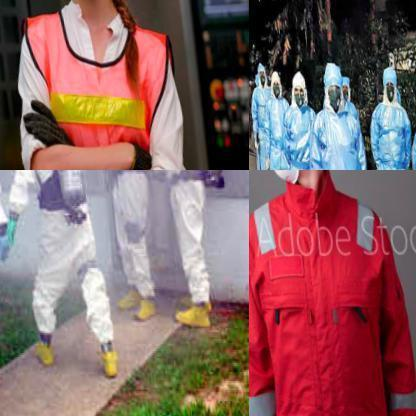vest: (249, 176, 415, 415), (18, 6, 179, 169), (17, 170, 102, 297), (150, 170, 219, 292), (98, 170, 155, 272), (305, 109, 376, 169), (365, 101, 415, 169), (277, 103, 323, 169), (259, 95, 297, 169), (249, 88, 278, 169)
